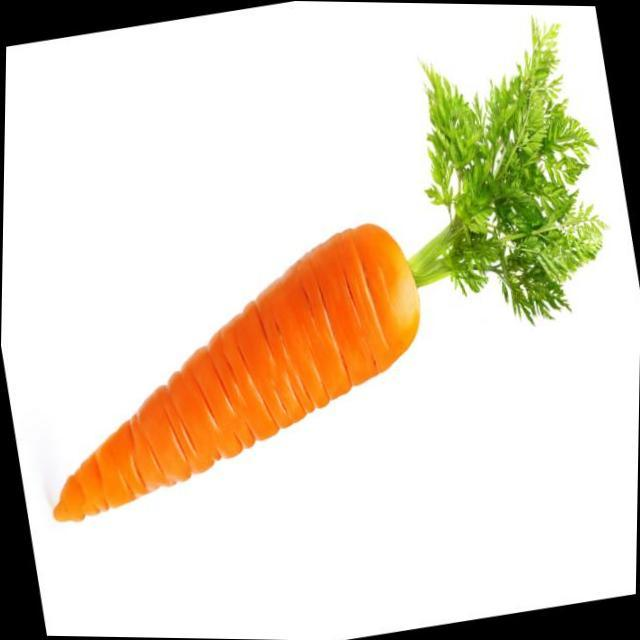carrot: (0, 21, 640, 581)
